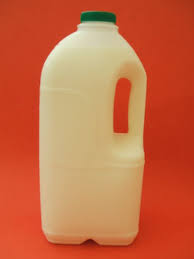milk: (42, 11, 147, 243)
